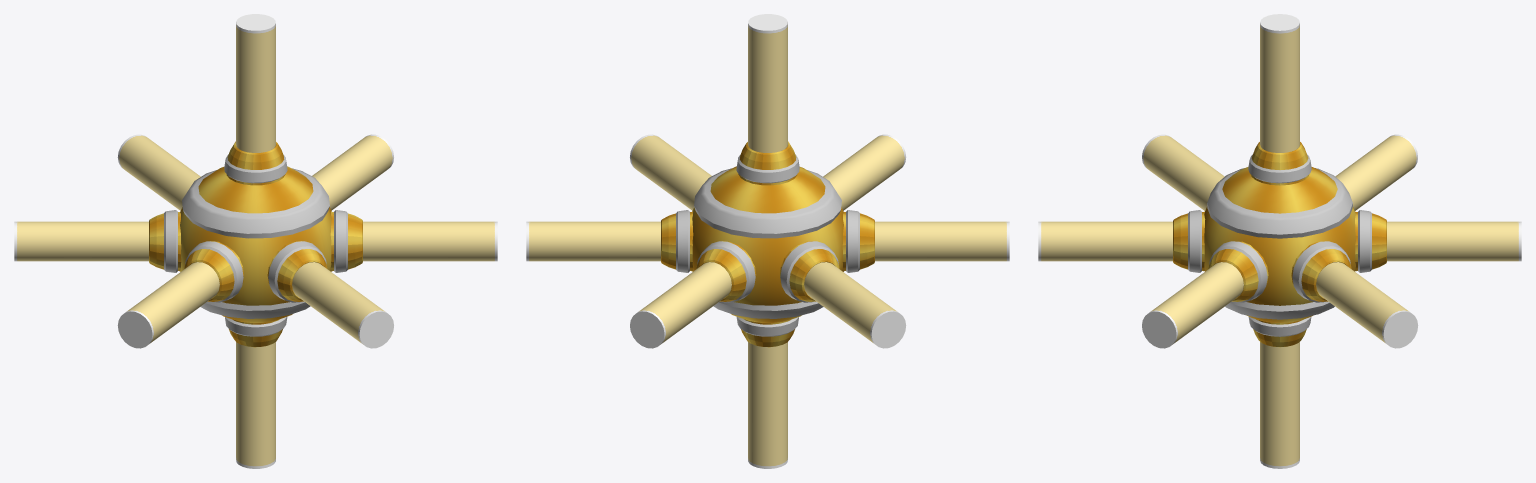
The model's file is Boom.fbx.
3 renders of one model, left to right at view 1: azimuth 30°, elevation 25°; view 2: azimuth 150°, elevation 25°; view 3: azimuth 270°, elevation 25°, orthographic.
Parts seen in each view (by area): view 1: zhadan:ball1, polySurface3, polySurface6, polySurface21, polySurface24, zhadan:top_big, polySurface9, polySurface18, polySurface12, polySurface15, zhadan:down_big, polySurface17 (+11 smaller); view 2: zhadan:ball1, polySurface15, polySurface18, polySurface21, polySurface24, zhadan:top_big, polySurface6, polySurface12, polySurface9, polySurface3, zhadan:down_big, polySurface5 (+11 smaller); view 3: zhadan:ball1, polySurface9, polySurface12, polySurface21, polySurface24, polySurface15, polySurface3, zhadan:top_big, polySurface18, polySurface6, zhadan:down_big, polySurface14 (+11 smaller).
Part boxes in pixels (<box>): zhadan:ball1: <box>180,166,331,322</box>; polySurface3: <box>363,221,497,261</box>; polySurface6: <box>14,221,148,261</box>; polySurface21: <box>236,14,275,152</box>; polySurface24: <box>236,342,275,468</box>; zhadan:top_big: <box>182,168,329,238</box>; polySurface9: <box>292,262,393,348</box>; polySurface18: <box>117,262,219,348</box>; polySurface12: <box>117,134,200,210</box>; polySurface15: <box>312,134,393,210</box>; zhadan:down_big: <box>200,301,310,318</box>; polySurface17: <box>184,241,243,301</box>; zhadan:ball1: <box>692,166,843,322</box>; polySurface15: <box>526,221,660,261</box>; polySurface18: <box>875,221,1009,261</box>; polySurface21: <box>748,14,787,152</box>; polySurface24: <box>748,342,787,468</box>; zhadan:top_big: <box>694,168,841,238</box>; polySurface6: <box>804,262,906,348</box>; polySurface12: <box>630,262,731,348</box>; polySurface9: <box>823,134,906,210</box>; polySurface3: <box>630,134,711,210</box>; zhadan:down_big: <box>713,301,823,318</box>; polySurface5: <box>780,241,839,301</box>; zhadan:ball1: <box>1204,166,1355,322</box>; polySurface9: <box>1038,221,1172,261</box>; polySurface12: <box>1387,221,1521,261</box>; polySurface21: <box>1260,14,1299,152</box>; polySurface24: <box>1260,342,1299,468</box>; polySurface15: <box>1316,262,1418,348</box>; polySurface3: <box>1142,262,1243,348</box>; zhadan:top_big: <box>1207,168,1352,238</box>; polySurface18: <box>1142,134,1224,210</box>; polySurface6: <box>1335,134,1417,210</box>; zhadan:down_big: <box>1225,301,1334,319</box>; polySurface14: <box>1291,241,1351,301</box>.
Size of the model in its own units: 26.85 by 29.59 by 29.59.
